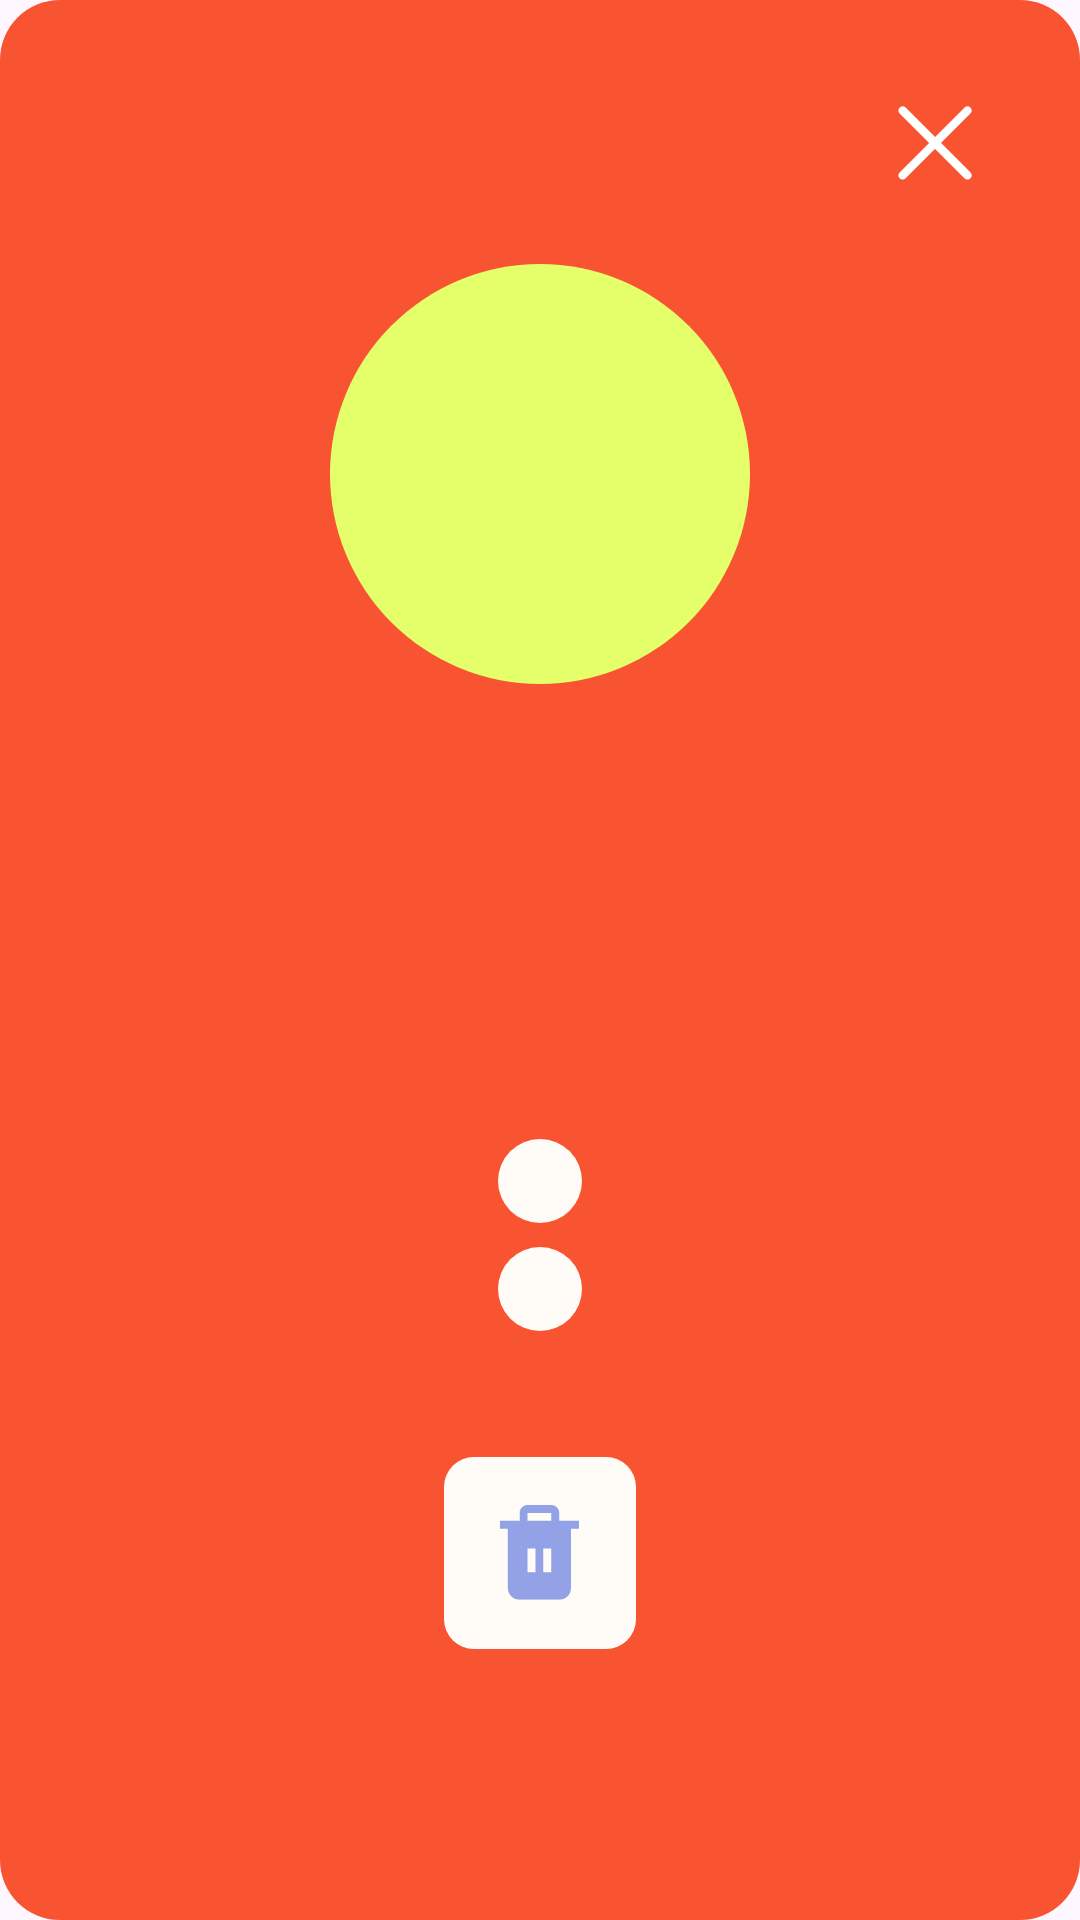

Icon click points for this 1080 x 1920 phone screenshot, format (x=x, y=y):
close: (x=935, y=143)
trash: (x=540, y=1553)
